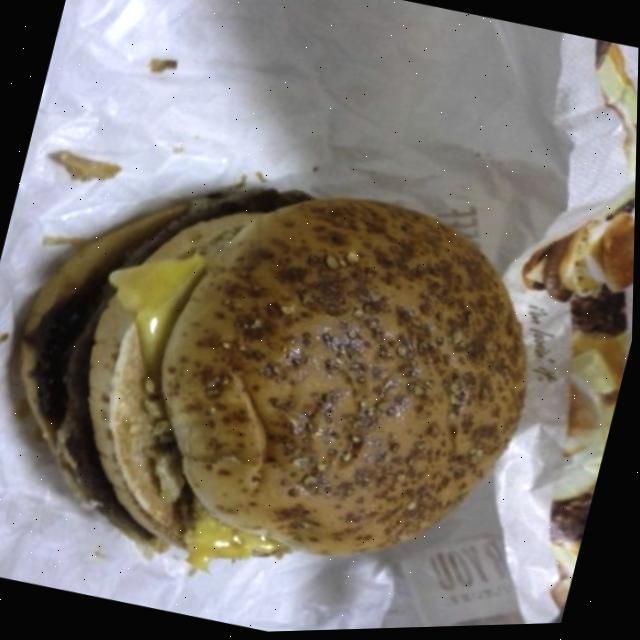汉堡快餐: (0, 121, 574, 632)
